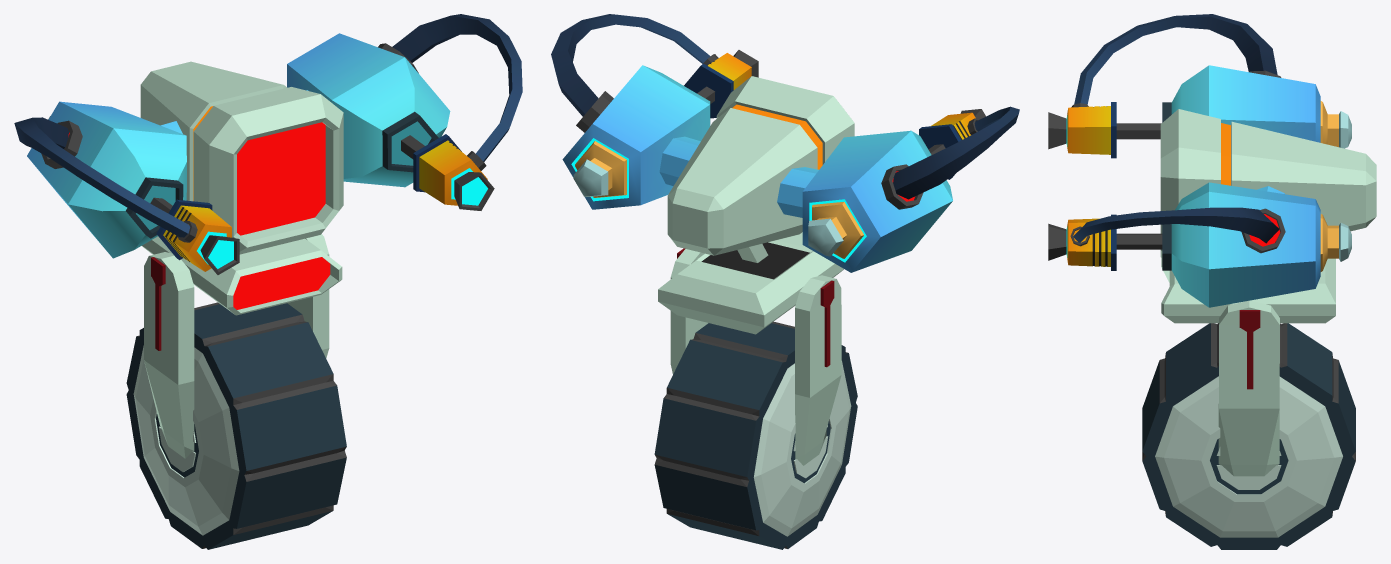
File: Roverr.fbx
The picture shows the model from 3 angles, left to right: view 1: azimuth 30°, elevation 25°; view 2: azimuth 150°, elevation 25°; view 3: azimuth 270°, elevation 25°; orthographic projection. The views are drawn at different scales.
Parts seen in each view (by area): view 1: ROBO, TIRE; view 2: ROBO, TIRE; view 3: ROBO, TIRE.
Boxes of the visible parts, left/top/right/bottom form: ROBO: left=14, top=14, right=522, bottom=458; TIRE: left=126, top=302, right=346, bottom=549; ROBO: left=551, top=14, right=1019, bottom=465; TIRE: left=654, top=321, right=857, bottom=549; ROBO: left=1048, top=14, right=1376, bottom=476; TIRE: left=1142, top=323, right=1355, bottom=549.
Bounding box in the file's own units: 218 × 209 × 150.
